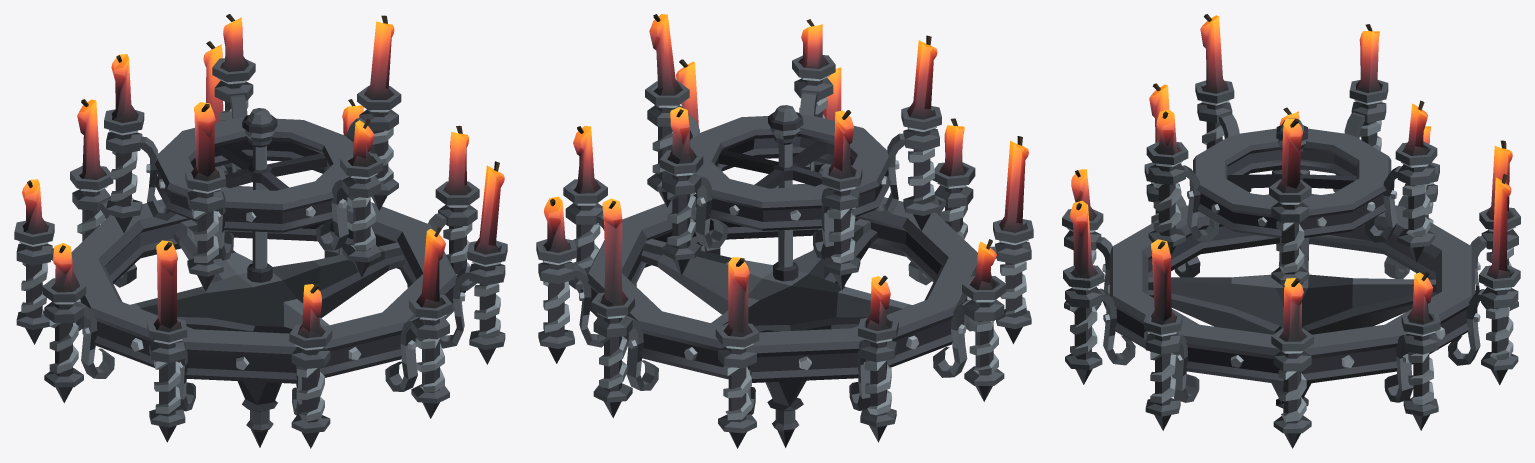
Rendered from crypt_chandelier.gltf.
The picture shows the model from 3 angles, left to right: view 1: azimuth 30°, elevation 25°; view 2: azimuth 150°, elevation 25°; view 3: azimuth 270°, elevation 25°; orthographic projection. The views are drawn at different scales.
Parts seen in each view (by area): view 1: crypt_chandelier; view 2: crypt_chandelier; view 3: crypt_chandelier.
Part boxes in pixels (bbox=[...]): crypt_chandelier: bbox=[14, 14, 507, 448]; crypt_chandelier: bbox=[536, 14, 1033, 448]; crypt_chandelier: bbox=[1062, 14, 1520, 448].
Bounding box in the file's own units: 2.23 × 2 × 2.16.
1 material, 1 textured.
